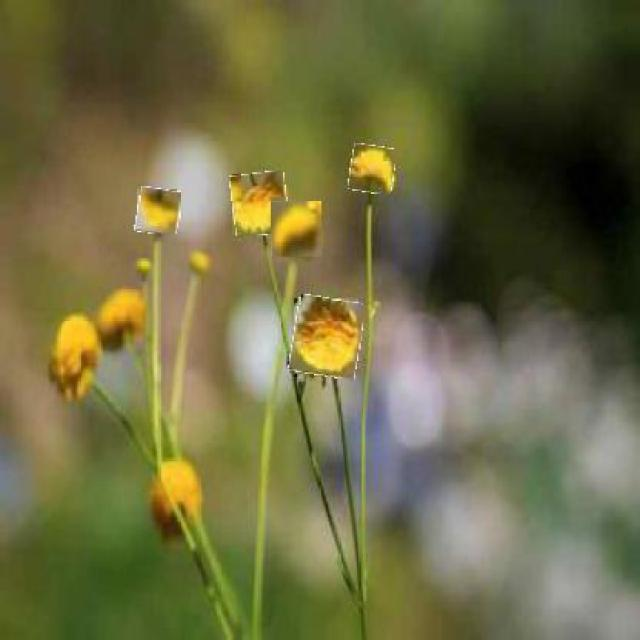Flower: (291, 297, 363, 378), (231, 172, 288, 237), (271, 200, 323, 258), (349, 145, 396, 194), (135, 189, 180, 235)
